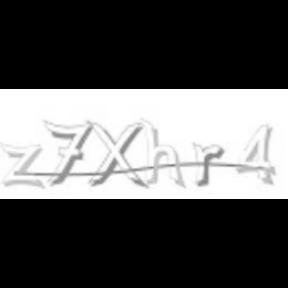7: (42, 116, 92, 188)
X: (86, 118, 148, 188)
h: (142, 116, 186, 188)
r: (234, 123, 276, 187), (192, 140, 226, 188)
z: (0, 141, 46, 189)
